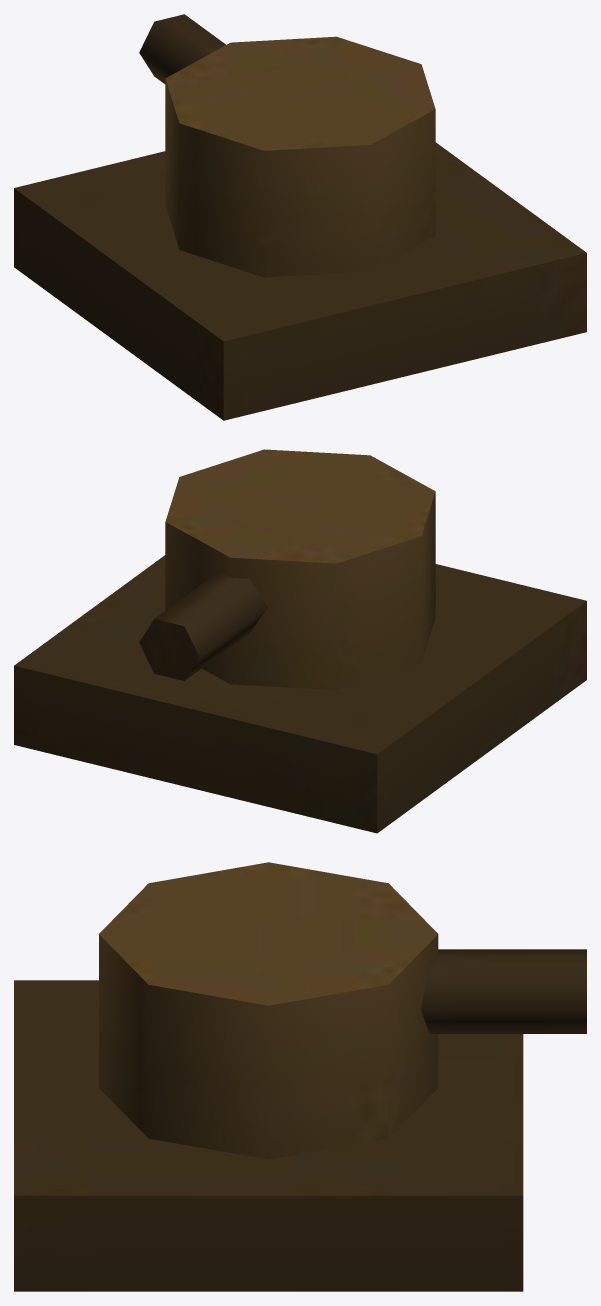
Rendered from laser-turret.glb.
3 renders of one model, top to bottom at view 1: azimuth 30°, elevation 25°; view 2: azimuth 150°, elevation 25°; view 3: azimuth 270°, elevation 25°, orthographic. The views are drawn at different scales.
Visible parts, largest first — view 1: laser-turret; view 2: laser-turret; view 3: laser-turret.
Boxes of the visible parts, x1,y1,x2,y2 form: laser-turret: (14, 14, 586, 420); laser-turret: (14, 449, 586, 833); laser-turret: (14, 862, 586, 1291).
Size of the model in its own units: 0.24 by 0.13 by 0.27.
1 material, 1 textured.
